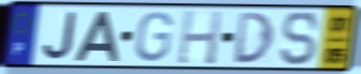A: (73, 9, 121, 63)
D: (233, 10, 276, 65)
G: (133, 10, 175, 64)
H: (175, 8, 225, 67)
J: (40, 10, 79, 62)
S: (279, 10, 321, 68)
